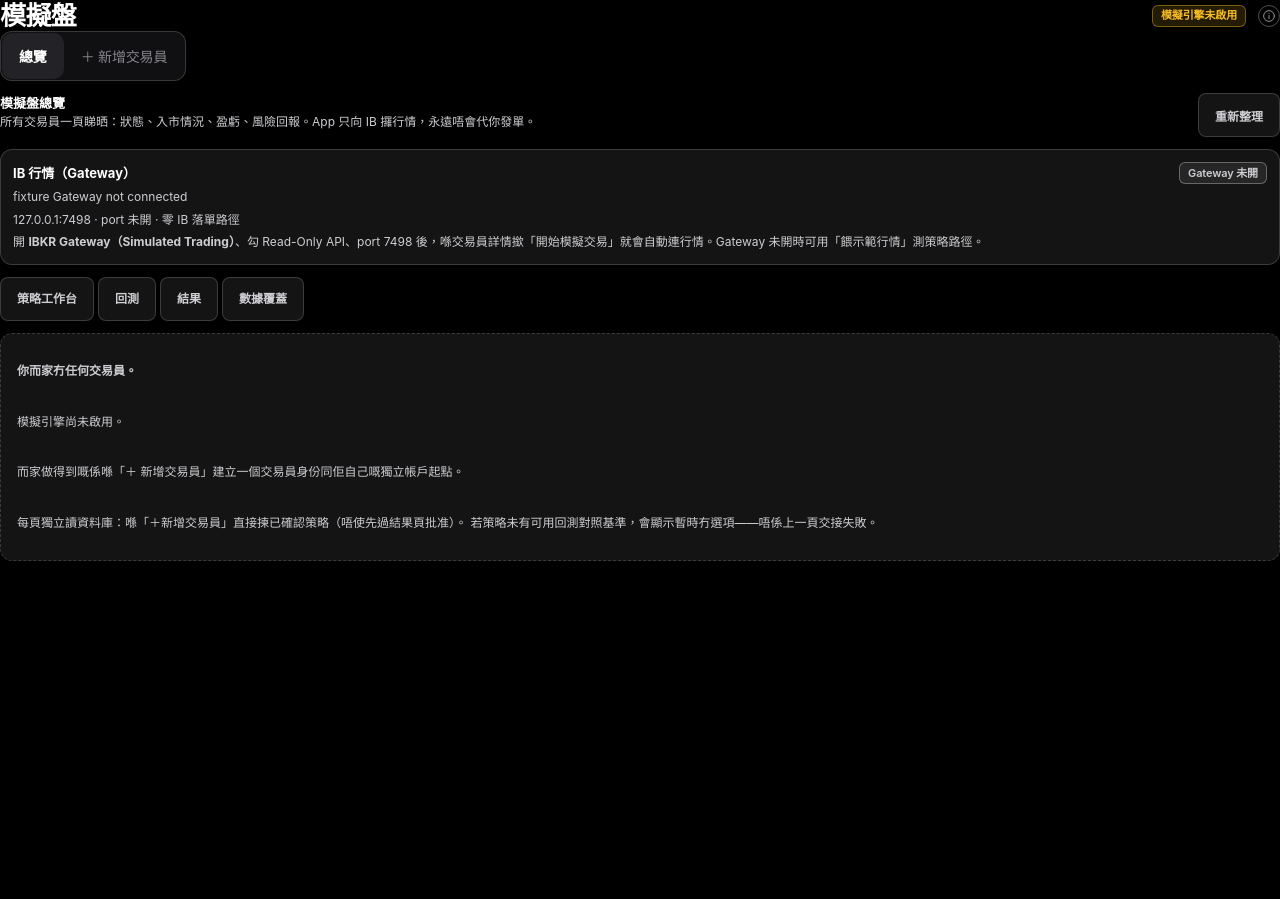
Test: P6 Stage A — baseline selection › shows the account amount from the response, never a hard-coded 100,000
Step 1. Click the tab "＋ 新增交易員" → (124,56), box [65, 34, 183, 78]
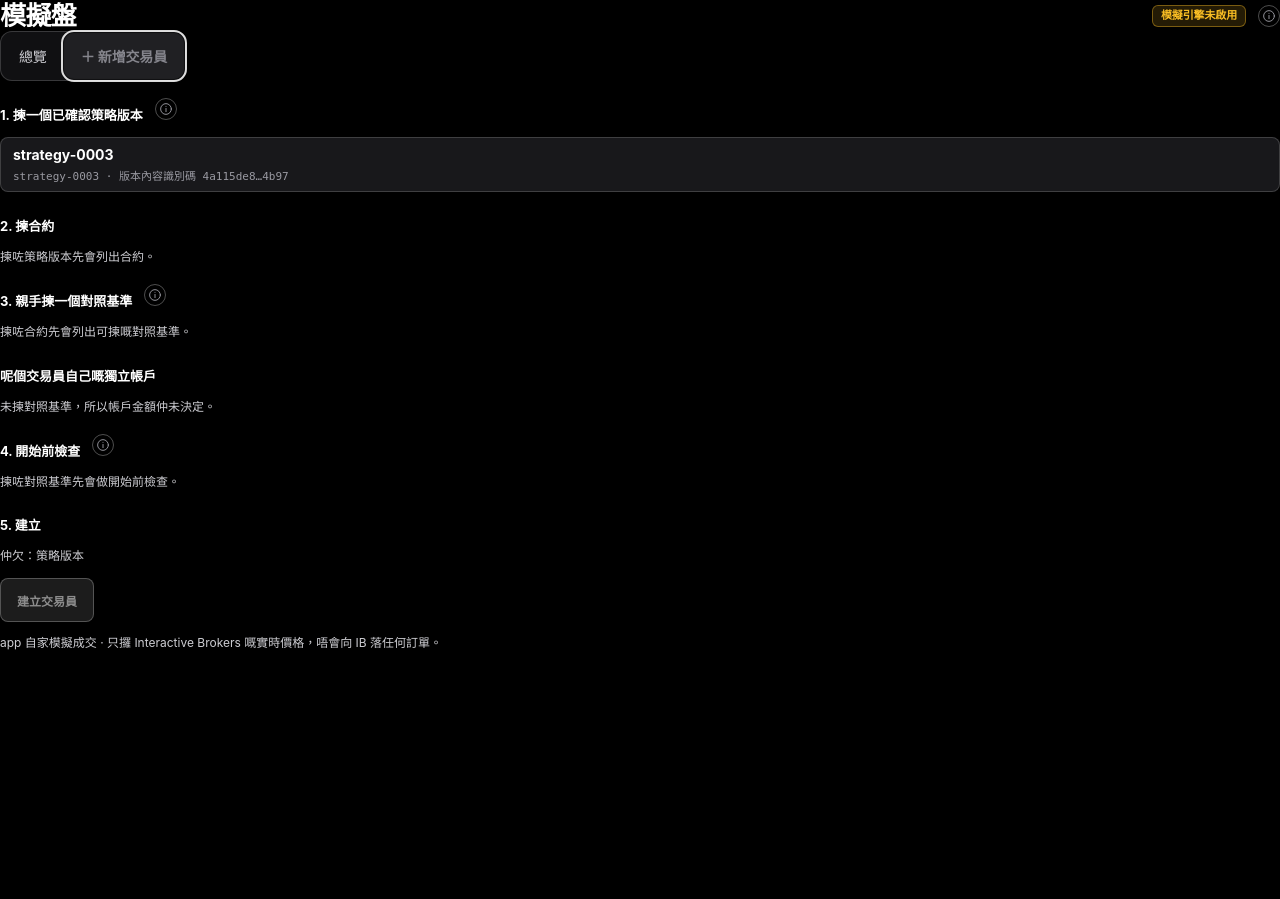
Step 2. Click the button "strategy-0003 strategy-0003 · 版本內容識別碼 4a115de8…4b97" → (63,155), box [0, 137, 1279, 192]
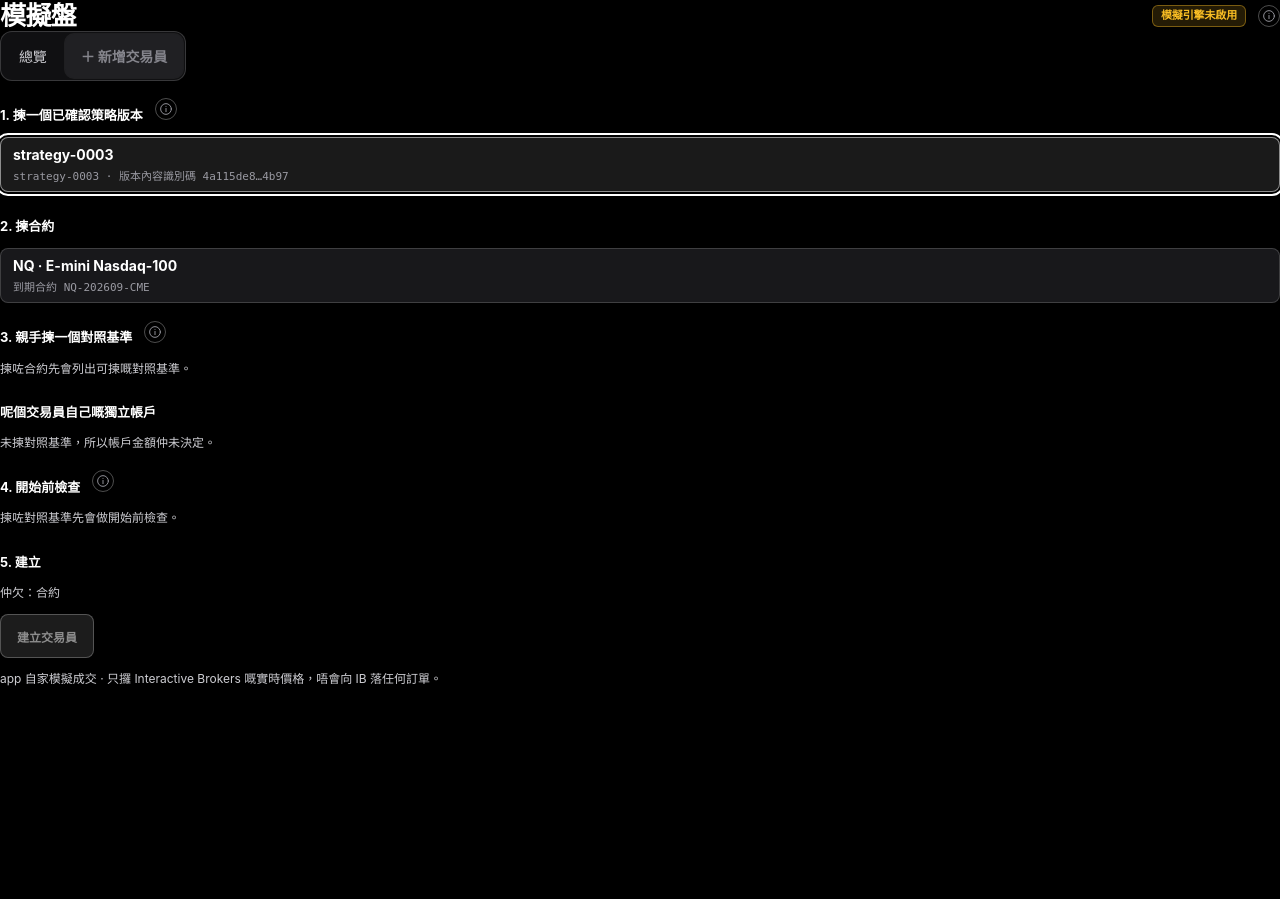
Step 3. Click the button "NQ · E-mini Nasdaq-100 到期合約 NQ-202609-CME" → (112,266), box [0, 248, 1279, 304]
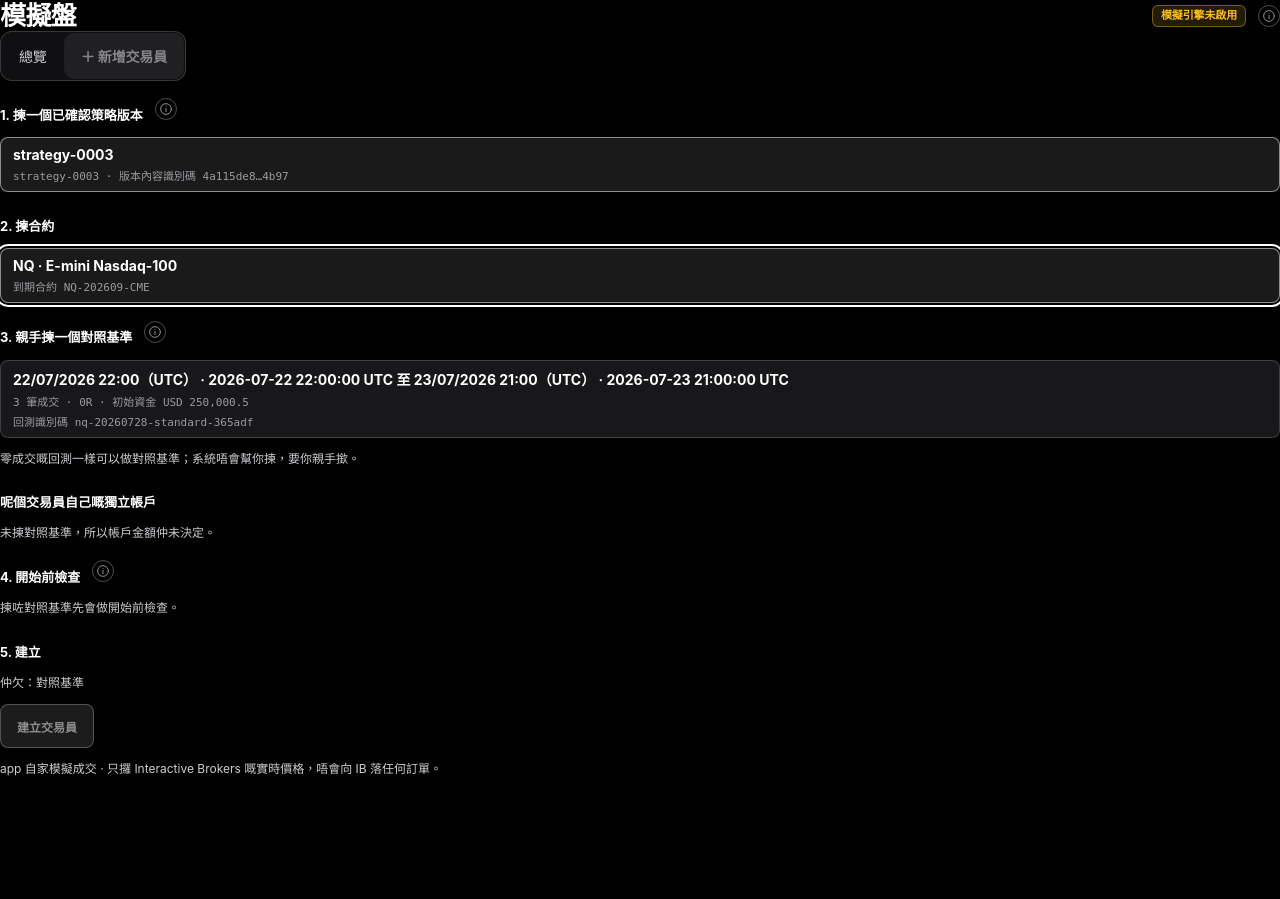
Step 4. Click the button named "筆成交" → (203,379), box [0, 360, 1279, 438]
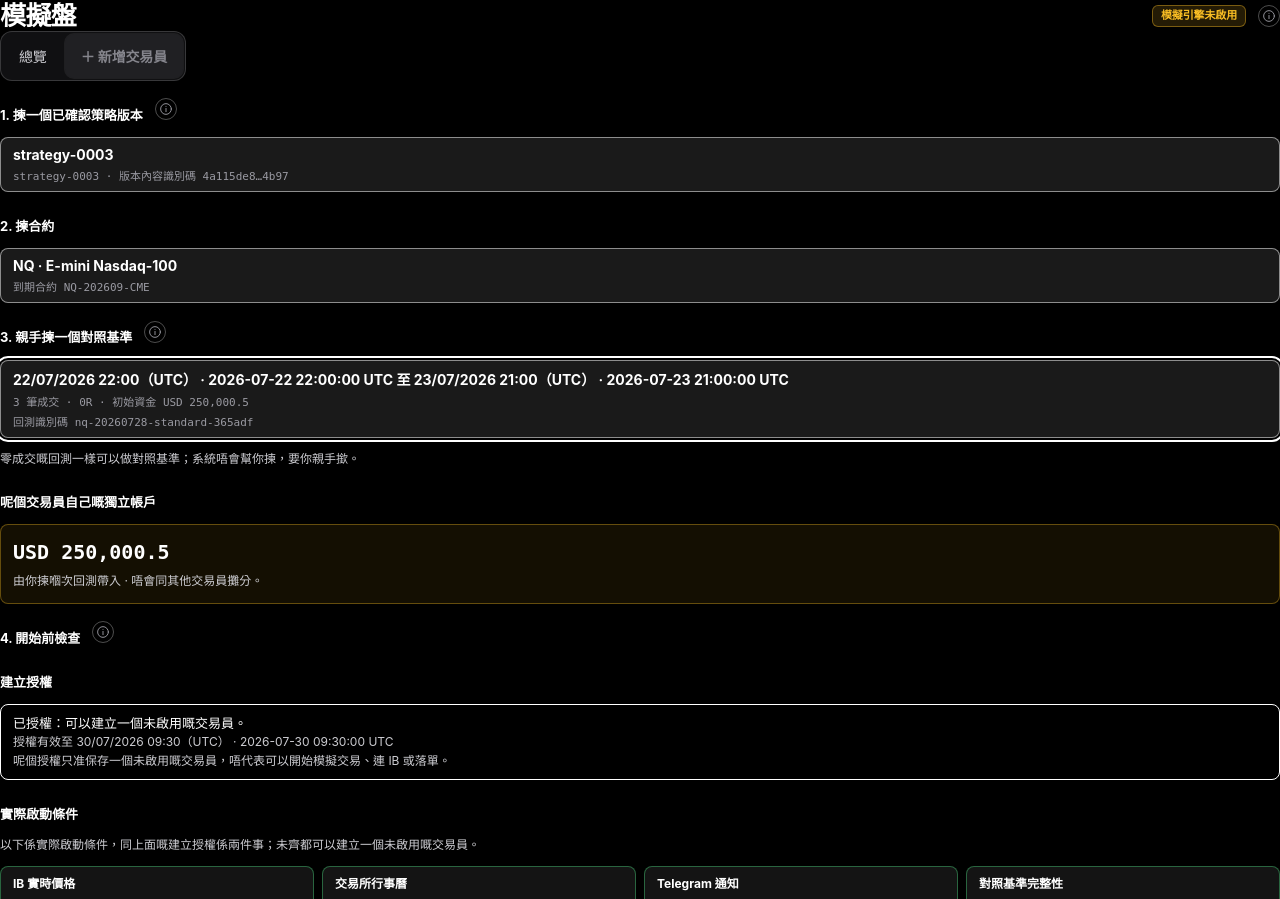
Expected: the text "USD 250,000.5" is shown, [13, 540, 170, 564]
